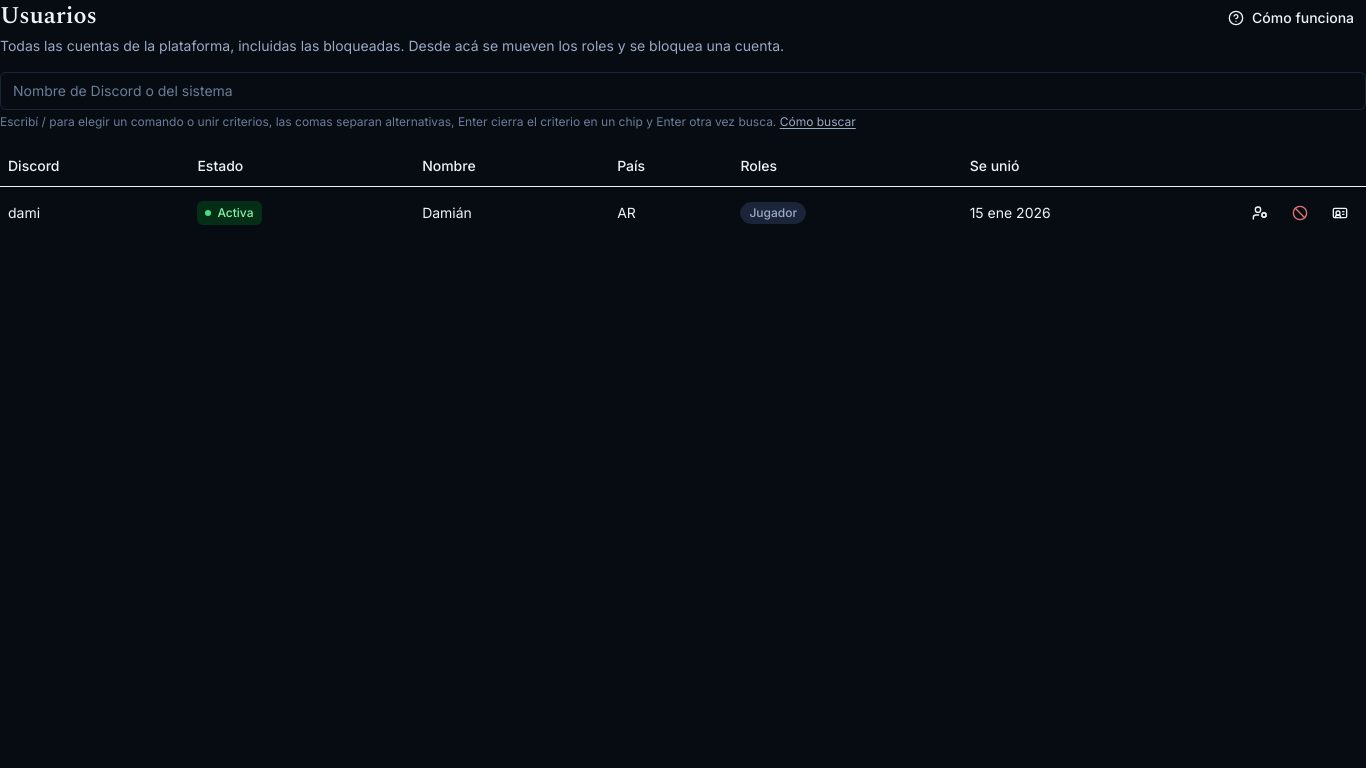
Test: AdminUsersPage › documents its own search commands, /role and /status among them
The image size is (1366, 768).
Click the button "Cómo buscar" at point(818, 122), box 780,114 -> 856,130
(page scrolled)
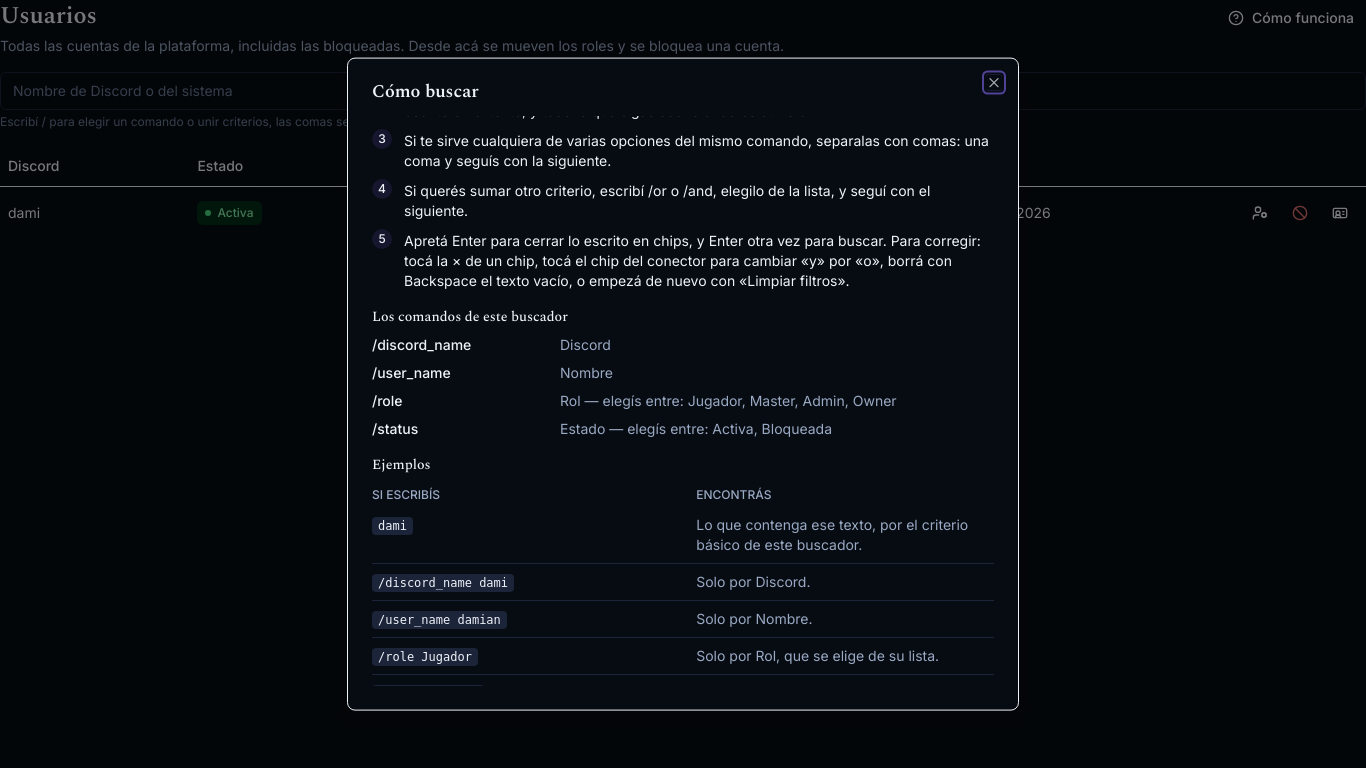
Result: the text "/role" is shown at 372,392 -> 402,409
Result: the text "/status" is shown at 372,420 -> 418,437
Result: the text "/discord_name" is shown at 372,336 -> 471,353
